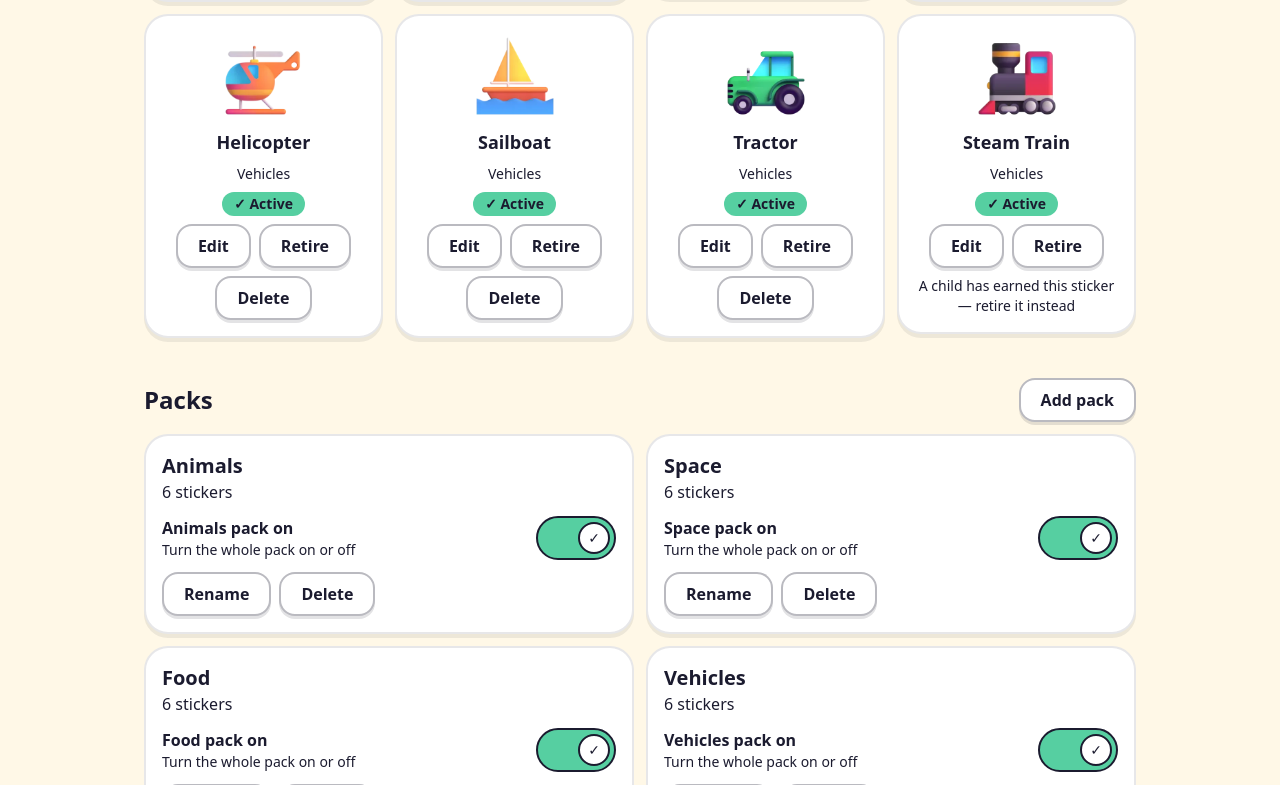
Test case: LibraryScreen › shows a server error for a duplicate pack name
(page scrolled)
Click the button "Add pack" at (1077, 400), box [1019,378,1136,422]
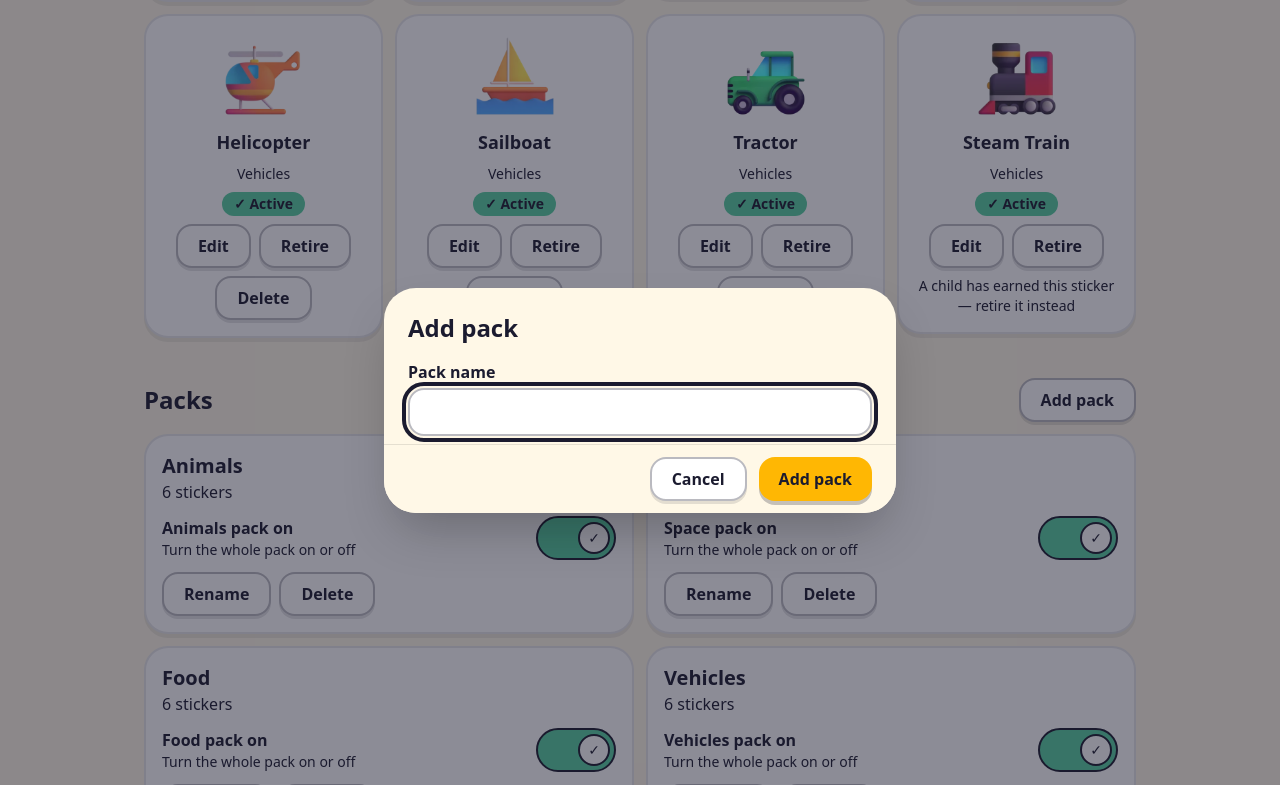
Type "Animals" into the field labelled "Pack name" at (640, 412), box [408,388,872,436]
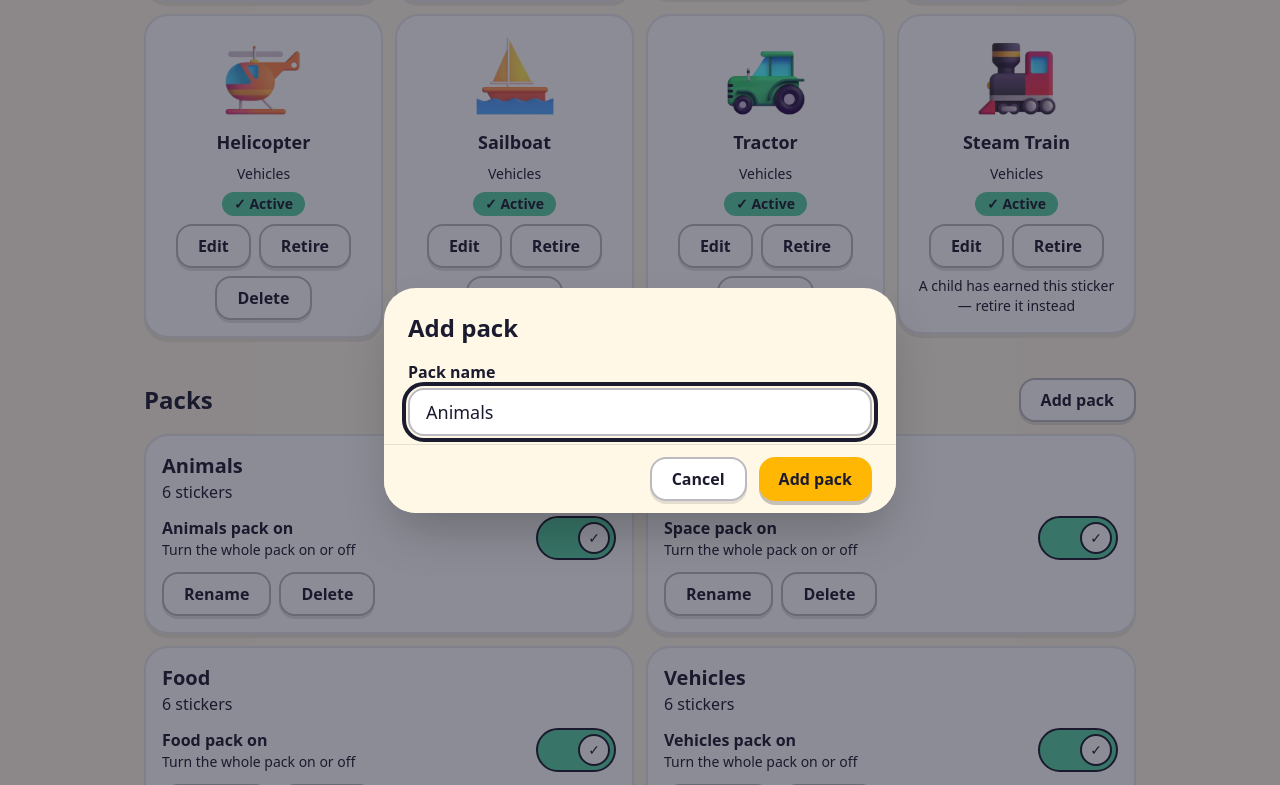
Click the button "Add pack" at (815, 478), box [759,456,872,500]
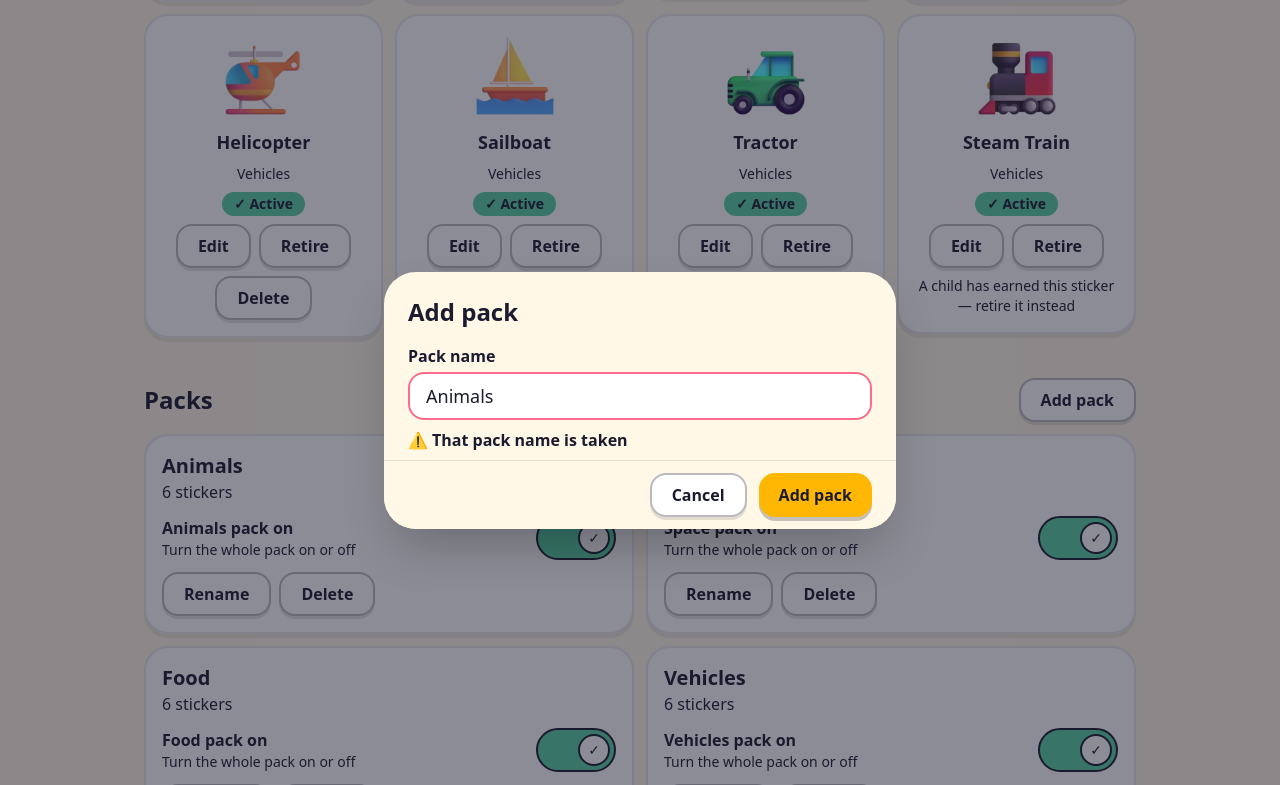
expect the text "That pack name is taken" is shown: met, box [432,428,628,450]
